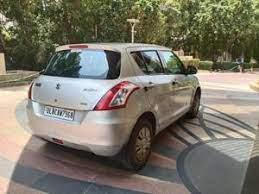Hatchback: (21, 43, 201, 171)
